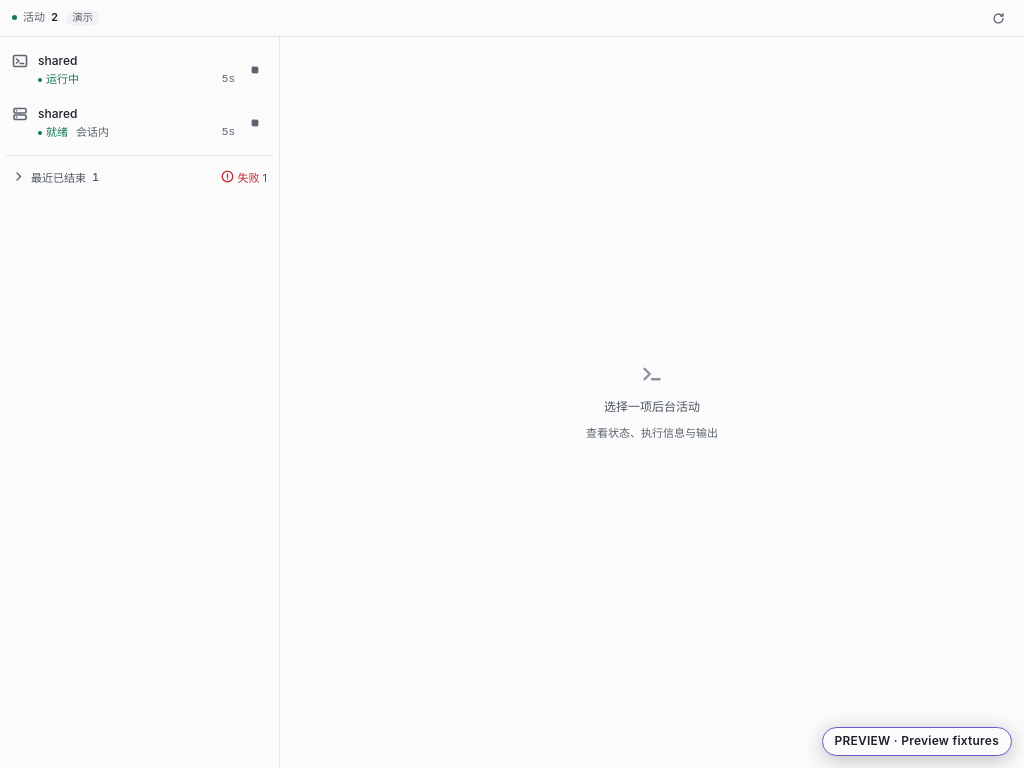
Test case: shows services and jobs in one list and keeps failures discoverable when recent entries are folded
Expected: the number of elements with class "bt-row" is 2, [6, 44, 273, 96]; [6, 97, 273, 149]
Expected: the text "失败 1" is shown, [221, 169, 267, 185]
Click the button "最近已结束 1 失败 1".
click(58, 178)  # box [6, 160, 273, 194]
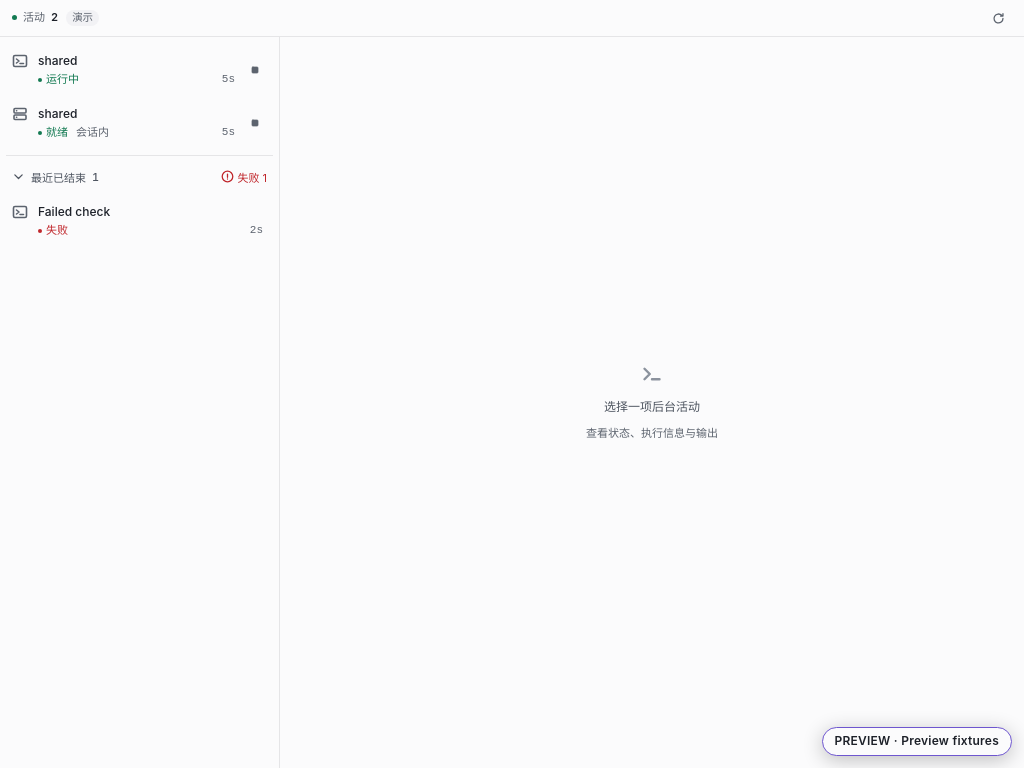
Result: the text "Failed check" is shown at [38, 204, 110, 219]
